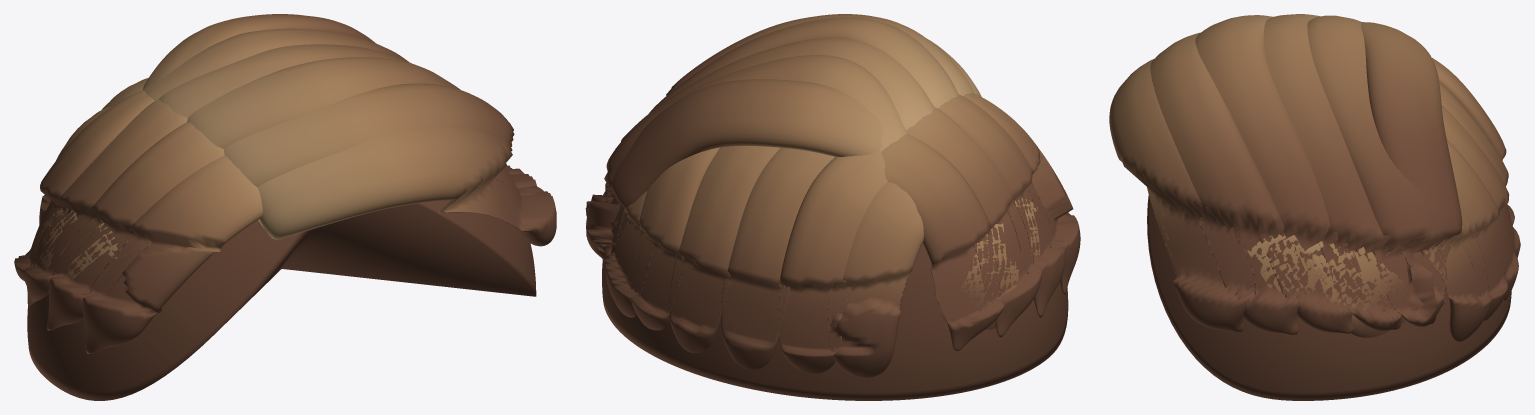
The model's file is Masculine-sidepart-headband258-hair-ombre.glb.
3 renders of one model, left to right at view 1: azimuth 30°, elevation 25°; view 2: azimuth 150°, elevation 25°; view 3: azimuth 270°, elevation 25°, orthographic. The views are drawn at different scales.
Visible parts, largest first — view 1: 226 hair / Hair258 / sculpted side sweep 1, 226 hair / Hair258 / sculpted side sweep 0, 226 hair / Hair258 / recessed roots, 226 hair / Hair258 / sculpted side sweep 2; view 2: 226 hair / Hair258 / sculpted side sweep 0, 226 hair / Hair258 / sculpted side sweep 1, 226 hair / Hair258 / sculpted side sweep 2, 226 hair / Hair258 / recessed roots; view 3: 226 hair / Hair258 / sculpted side sweep 0, 226 hair / Hair258 / sculpted side sweep 1, 226 hair / Hair258 / recessed roots, 226 hair / Hair258 / sculpted side sweep 2.
Part boxes in pixels (x1,y1,x2,y2): 226 hair / Hair258 / sculpted side sweep 1: (14,44,556,353); 226 hair / Hair258 / sculpted side sweep 0: (30,14,536,330); 226 hair / Hair258 / recessed roots: (27,200,536,400); 226 hair / Hair258 / sculpted side sweep 2: (25,57,512,306); 226 hair / Hair258 / sculpted side sweep 0: (586,14,1065,373); 226 hair / Hair258 / sculpted side sweep 1: (585,38,1080,370); 226 hair / Hair258 / sculpted side sweep 2: (605,17,1041,377); 226 hair / Hair258 / recessed roots: (602,243,1068,400); 226 hair / Hair258 / sculpted side sweep 0: (1150,15,1514,337); 226 hair / Hair258 / sculpted side sweep 1: (1109,14,1520,341); 226 hair / Hair258 / recessed roots: (1147,195,1511,400); 226 hair / Hair258 / sculpted side sweep 2: (1195,15,1518,333).
Size of the model in its own units: 0.9741 by 0.5696 by 0.7887.
